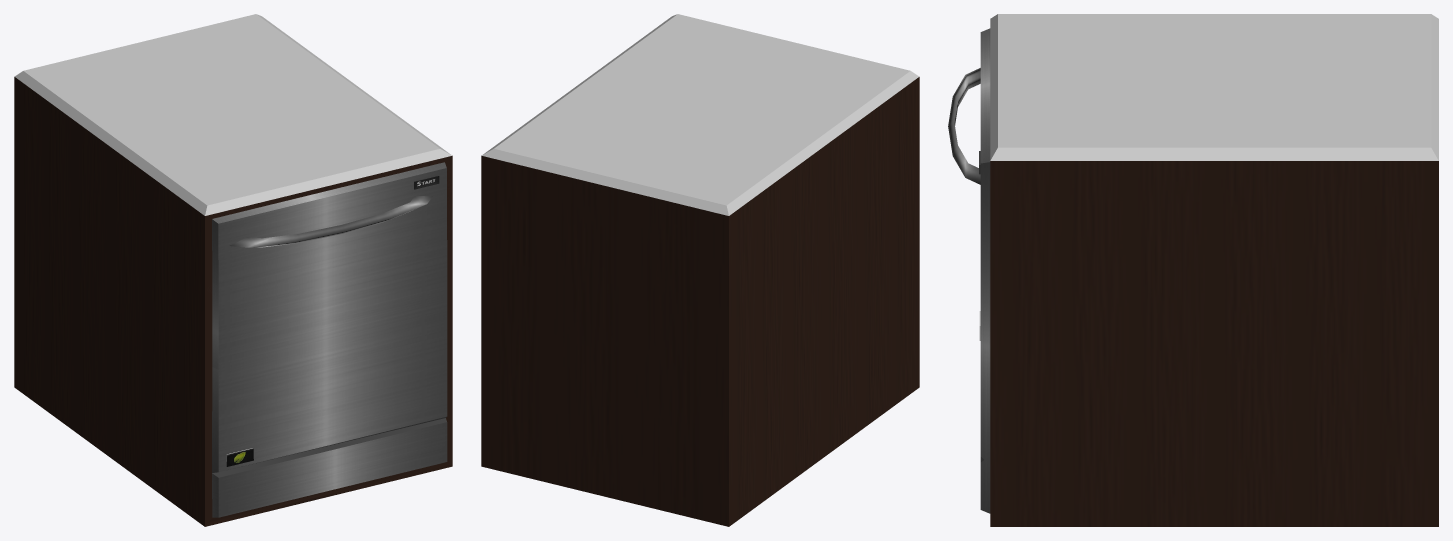
Rendered from Dishwasher_A_1.FBX.
The picture shows the model from 3 angles, left to right: view 1: azimuth 30°, elevation 25°; view 2: azimuth 150°, elevation 25°; view 3: azimuth 270°, elevation 25°; orthographic projection. The views are drawn at different scales.
Visible parts, largest first — view 1: Dishwasher_1; view 2: Dishwasher_1; view 3: Dishwasher_1.
Boxes of the visible parts, <box> form: Dishwasher_1: <box>14,14,452,526</box>; Dishwasher_1: <box>481,14,919,526</box>; Dishwasher_1: <box>948,14,1438,526</box>.
Bounding box in the file's own units: 112 × 138 × 164.
